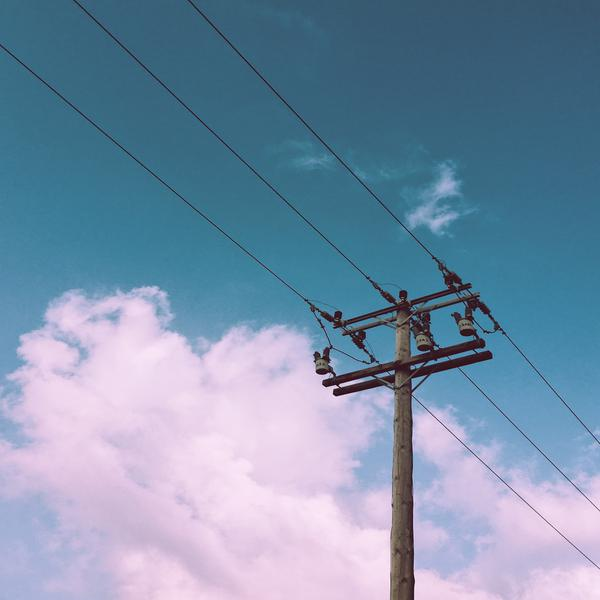utility_pole: (301, 250, 508, 431)
